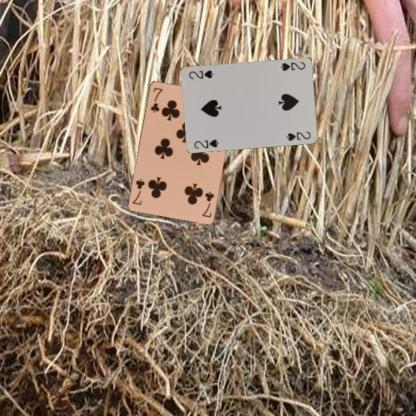2s: (191, 136, 220, 150), (278, 59, 307, 72)
7c: (199, 188, 215, 218), (148, 85, 163, 114)
